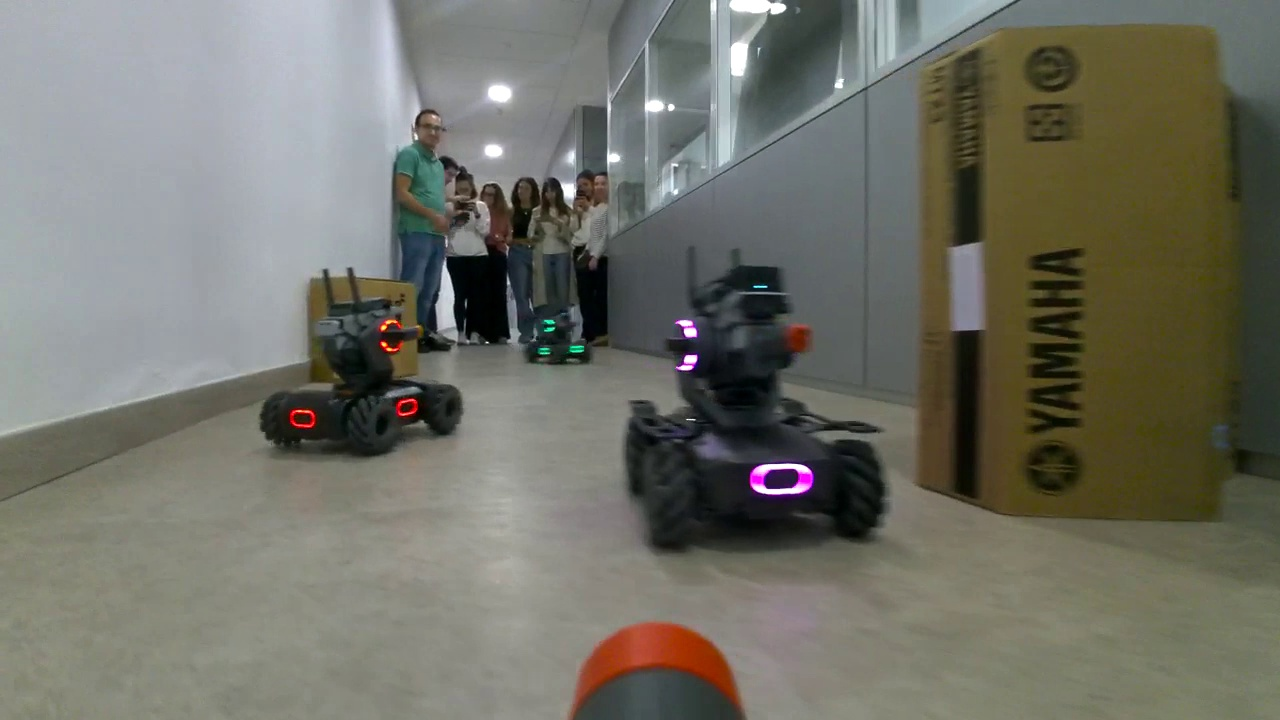robot: (622, 264, 890, 557), (256, 299, 465, 459), (522, 309, 595, 367)
